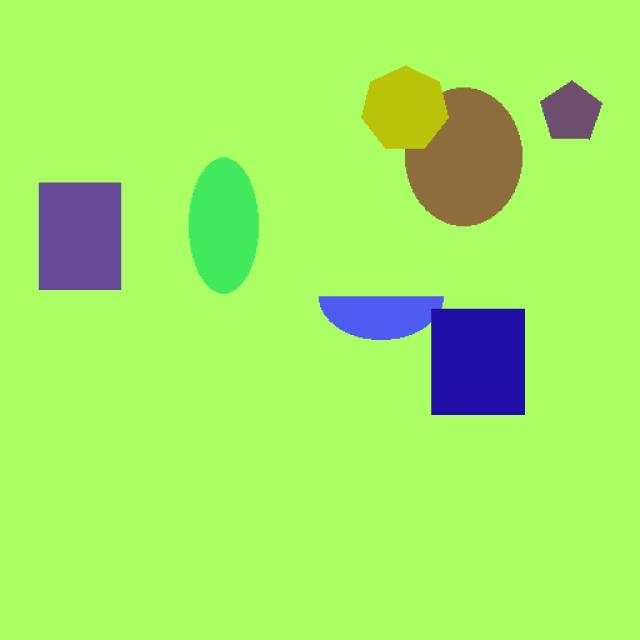Circle: (401, 76, 539, 239), (175, 152, 271, 312)
Heptagon: (353, 58, 458, 158)
Pentagon: (521, 72, 622, 161)
Semicircle: (286, 276, 471, 356)
square: (25, 168, 149, 324), (421, 296, 533, 430)
